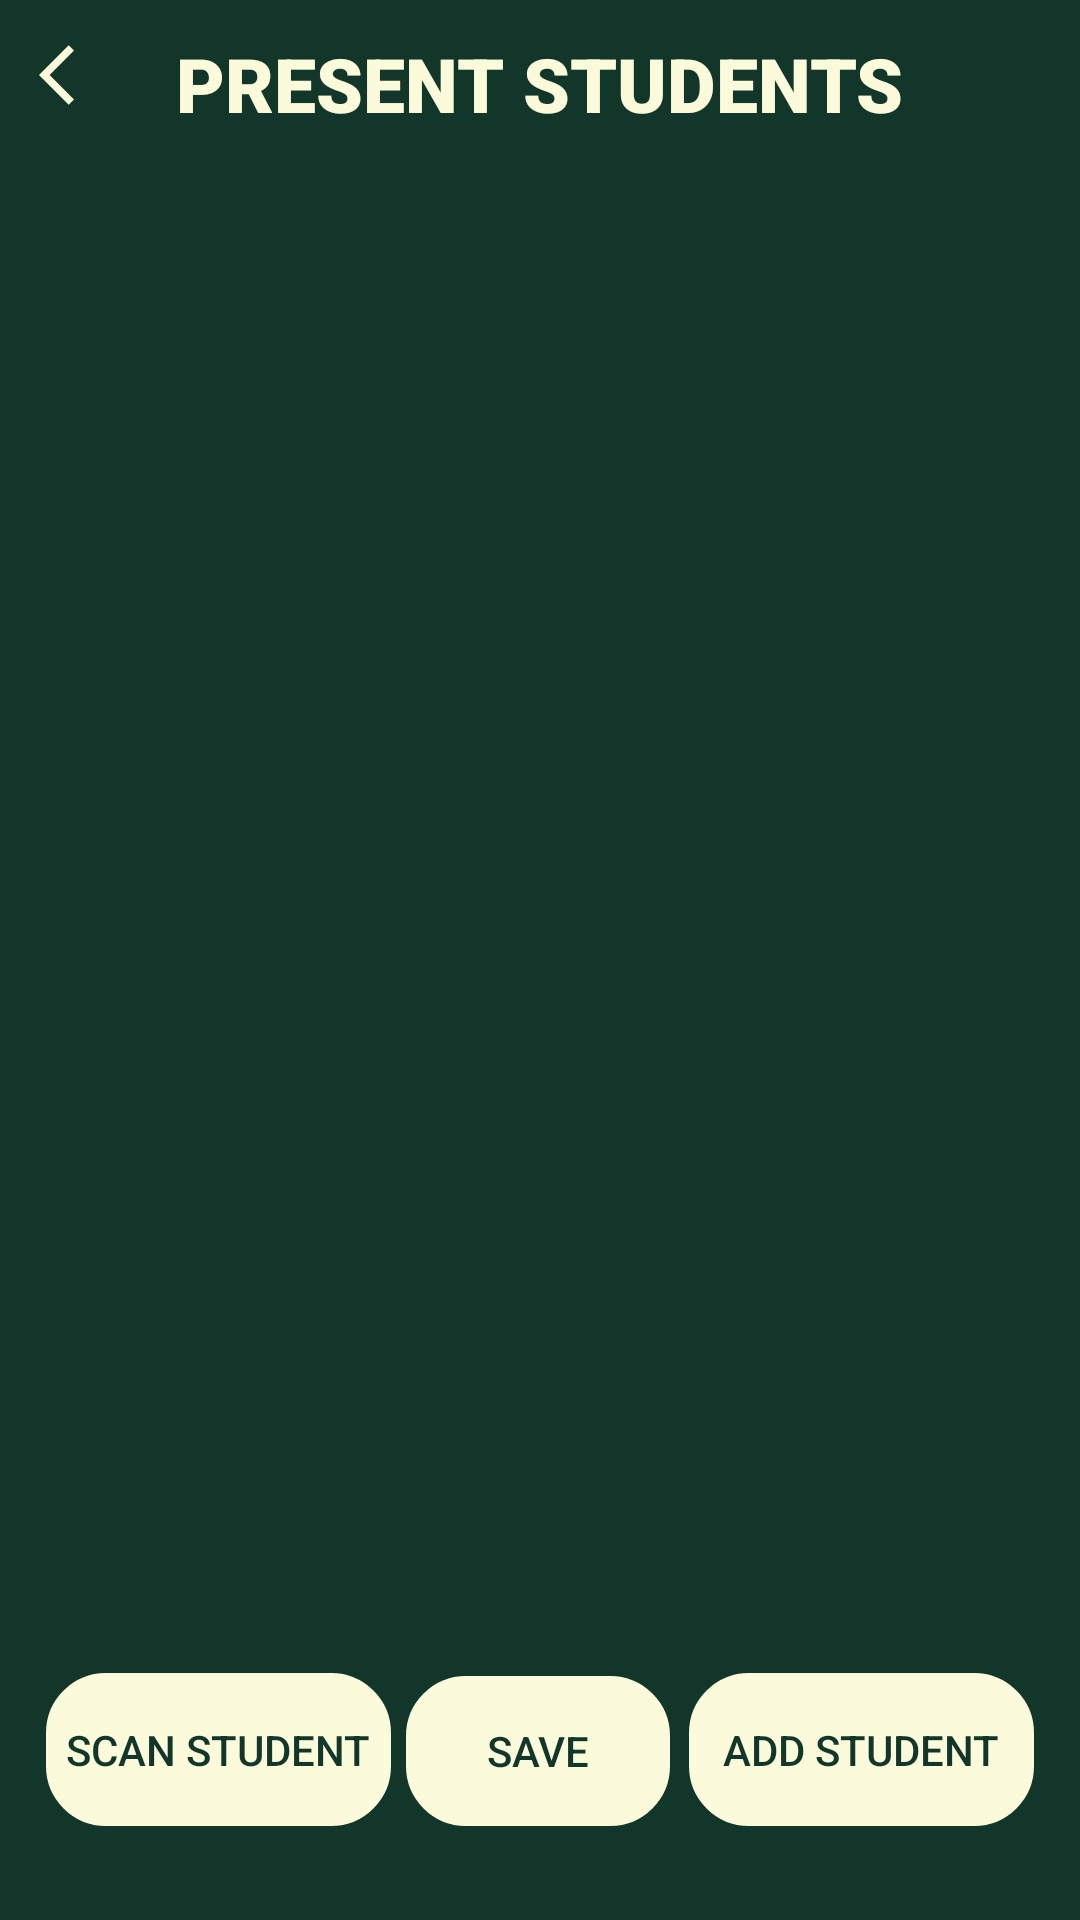

Icons on this 1080w x 1920h Android screen, each with its box as region(x1, y1, x2, y2):
arrow back: region(39, 45, 74, 105)
